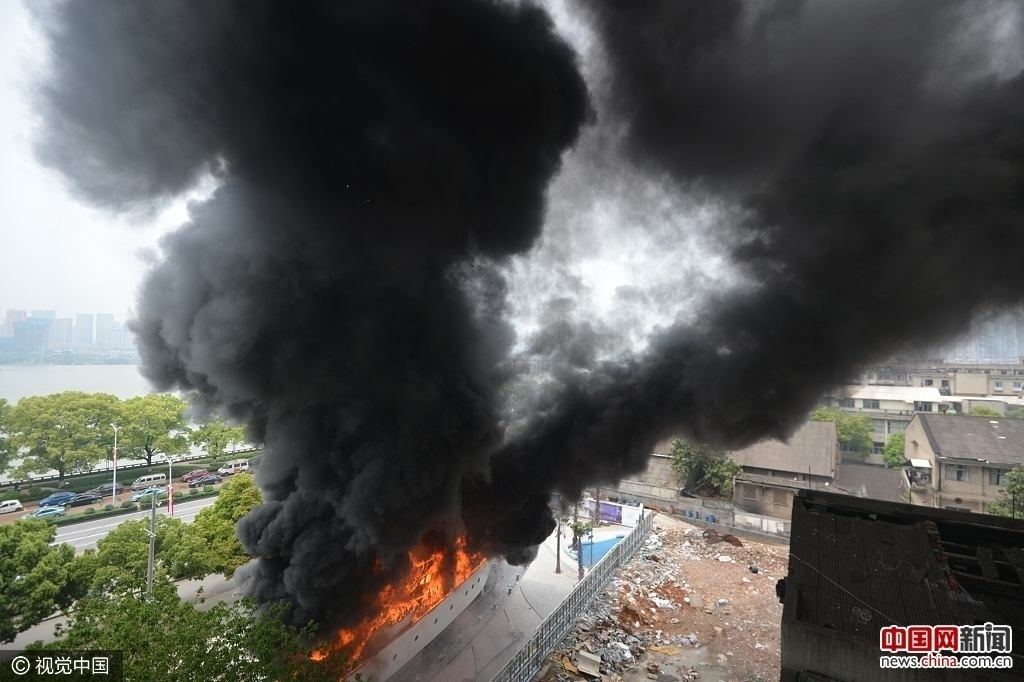fire: (309, 535, 480, 663)
